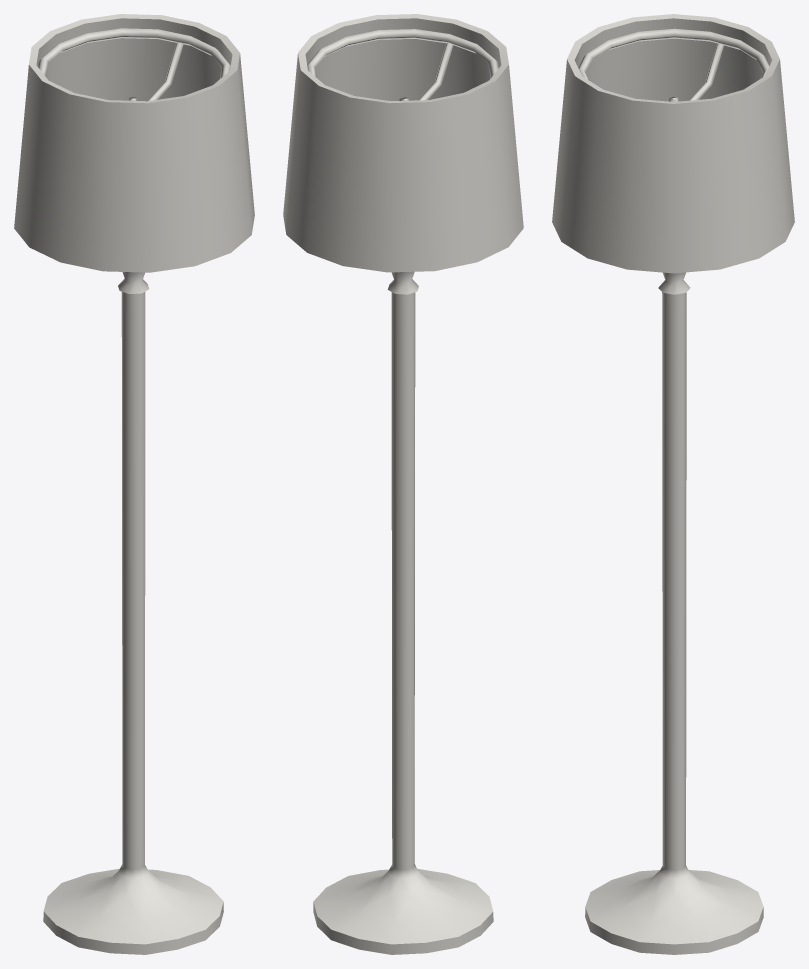
The model's file is Floor Lamp.glb.
3 views of the same model, side by side, from view 1: azimuth 30°, elevation 25°; view 2: azimuth 150°, elevation 25°; view 3: azimuth 270°, elevation 25° (orthographic).
Visible parts, largest first — view 1: Standard.13, Standard.12; view 2: Standard.13, Standard.12; view 3: Standard.13, Standard.12.
Boxes of the visible parts, bbox=[...] form: Standard.13: bbox=[14, 14, 254, 272]; Standard.12: bbox=[37, 28, 230, 954]; Standard.13: bbox=[283, 14, 523, 272]; Standard.12: bbox=[307, 29, 499, 954]; Standard.13: bbox=[552, 14, 794, 273]; Standard.12: bbox=[578, 28, 769, 954].
Bounding box in the file's own units: 0.0244 × 0.0952 × 0.0244.
2 materials, 2 textured.
